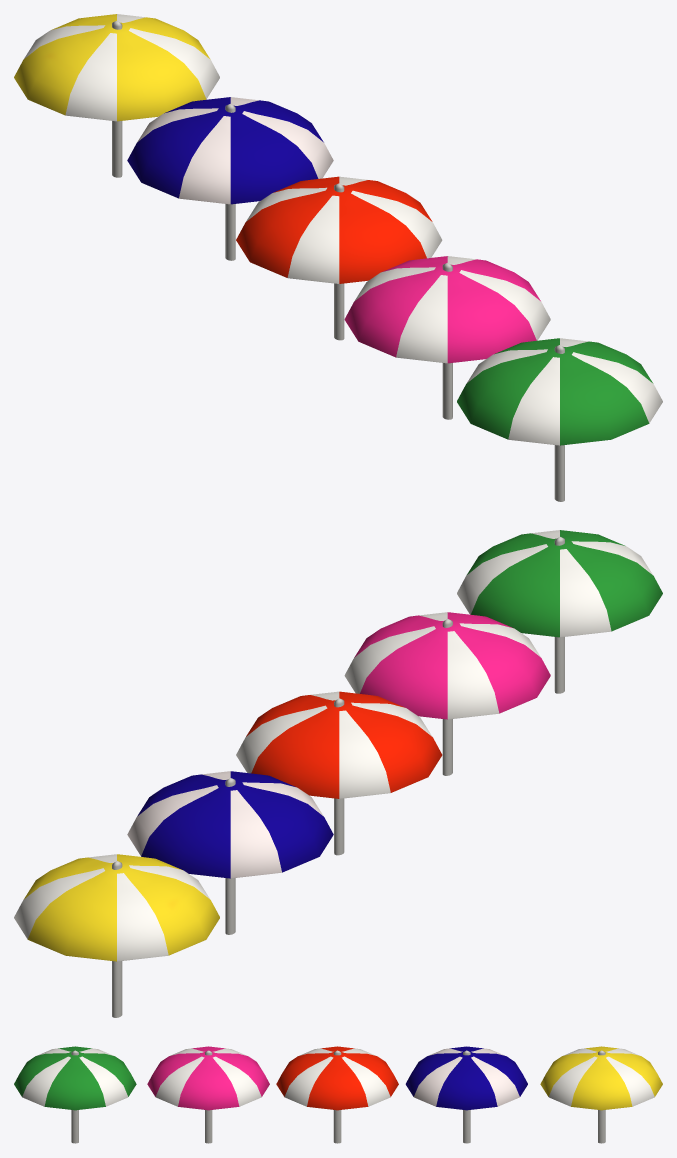
File: guardasol1.fbx
The picture shows the model from 3 angles, top to bottom: view 1: azimuth 30°, elevation 25°; view 2: azimuth 150°, elevation 25°; view 3: azimuth 270°, elevation 25°; orthographic projection. The views are drawn at different scales.
Visible parts, largest first — view 1: Cylinder.005, Cylinder.004, Cylinder.003, Cylinder.002, Cylinder; view 2: Cylinder.004, Cylinder.002, Cylinder.005, Cylinder, Cylinder.003; view 3: Cylinder, Cylinder.003, Cylinder.002, Cylinder.004, Cylinder.005.
Boxes of the visible parts, <box> form: Cylinder.005: <box>457,338,662,501</box>; Cylinder.004: <box>14,14,219,177</box>; Cylinder.003: <box>344,256,550,419</box>; Cylinder.002: <box>127,97,333,260</box>; Cylinder: <box>236,176,442,340</box>; Cylinder.004: <box>14,854,219,1017</box>; Cylinder.002: <box>127,771,333,934</box>; Cylinder.005: <box>457,530,662,693</box>; Cylinder: <box>236,691,442,855</box>; Cylinder.003: <box>344,612,550,775</box>; Cylinder: <box>276,1046,398,1143</box>; Cylinder.003: <box>147,1046,269,1143</box>; Cylinder.002: <box>405,1046,527,1143</box>; Cylinder.004: <box>540,1046,662,1143</box>; Cylinder.005: <box>14,1046,136,1143</box>.
Size of the model in its own units: 299 by 247 by 1581.
Materials: 5 (5 with a texture image).
